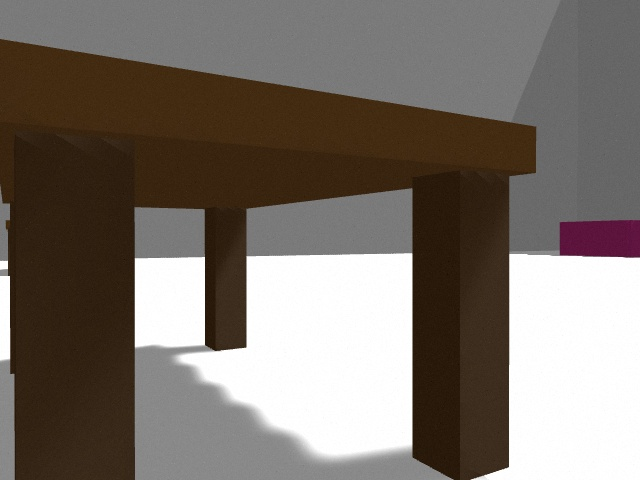red_drop_zone: (560, 220, 640, 257)
